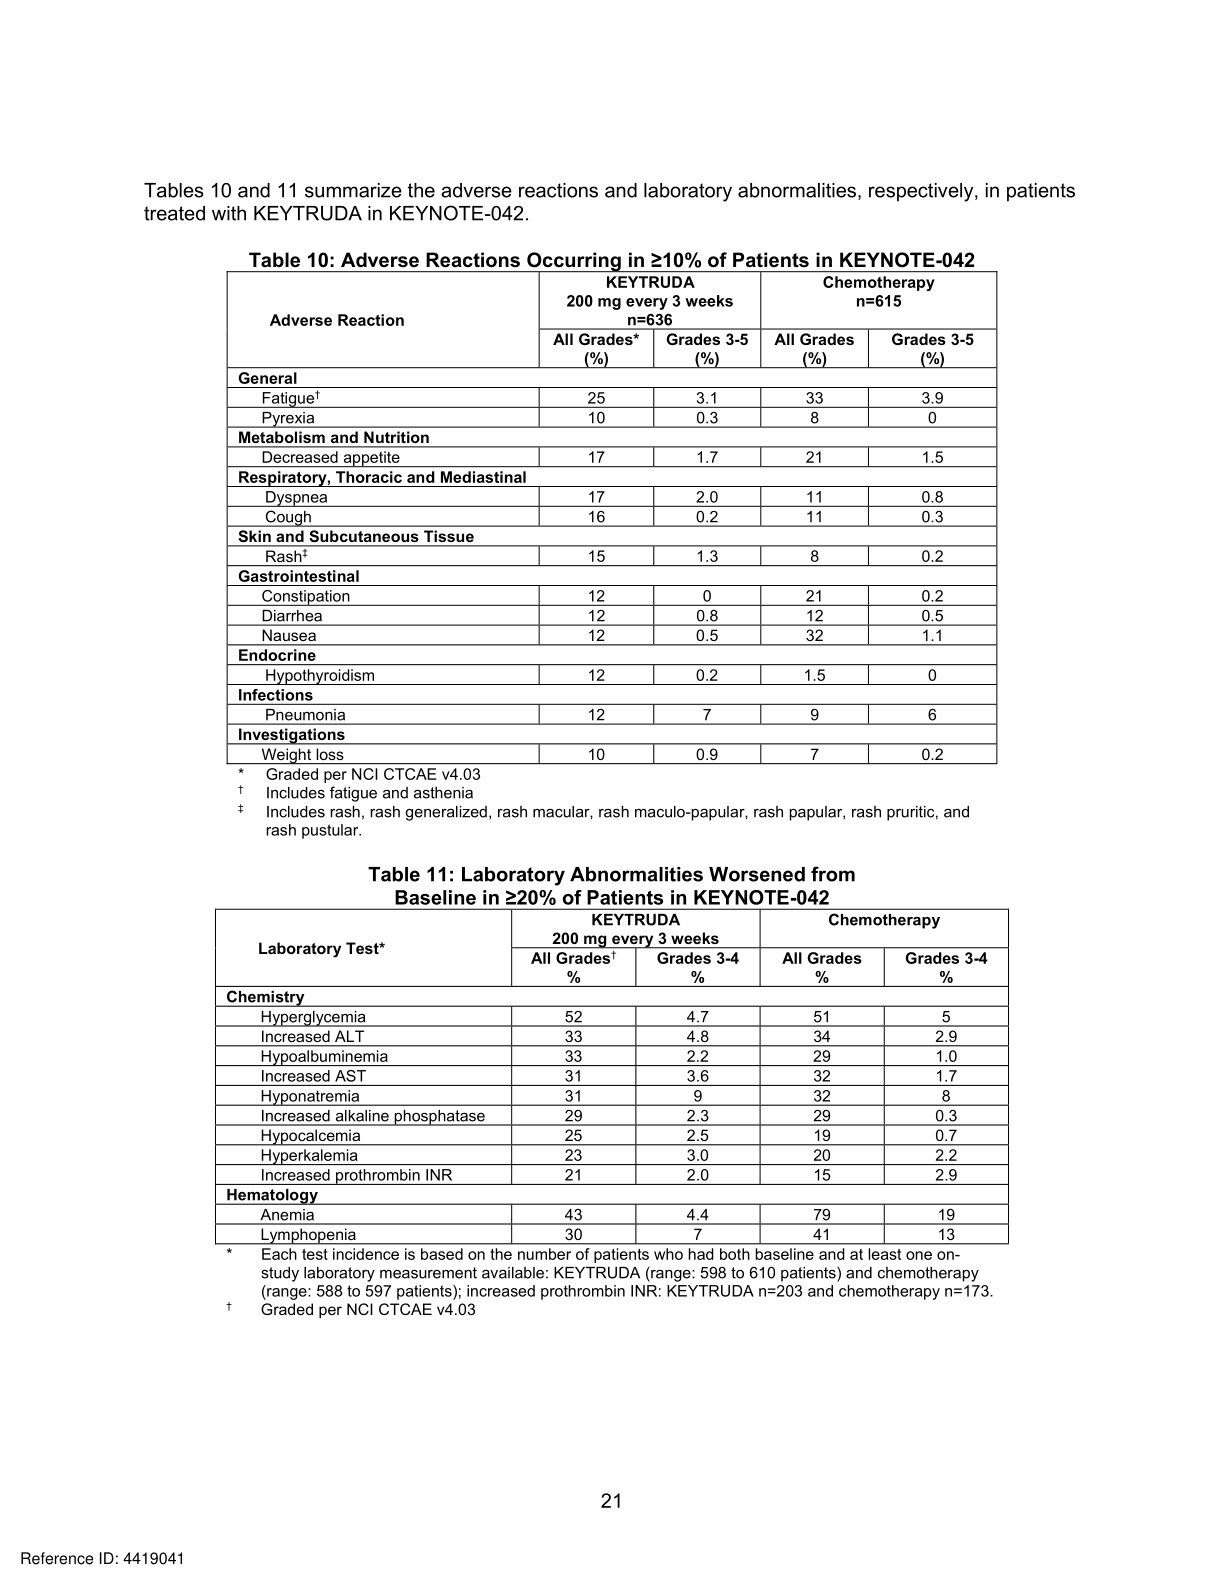merged_cells: (226, 271, 998, 765), (215, 908, 1009, 1245)
